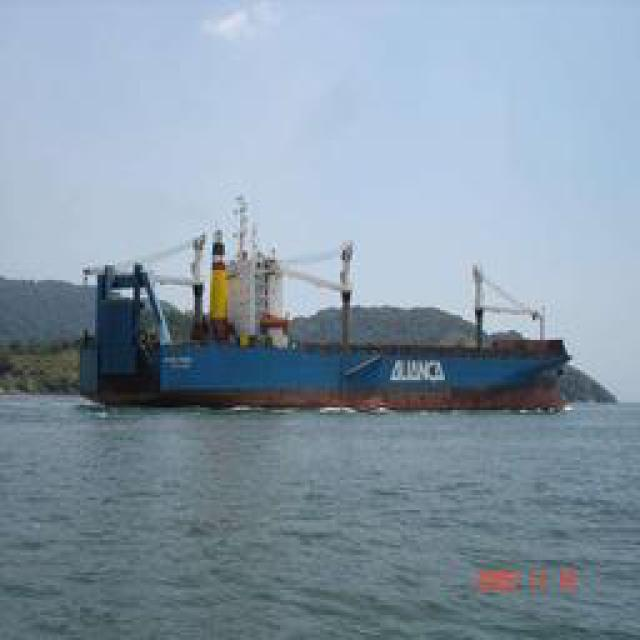Ship: (82, 222, 582, 415)
